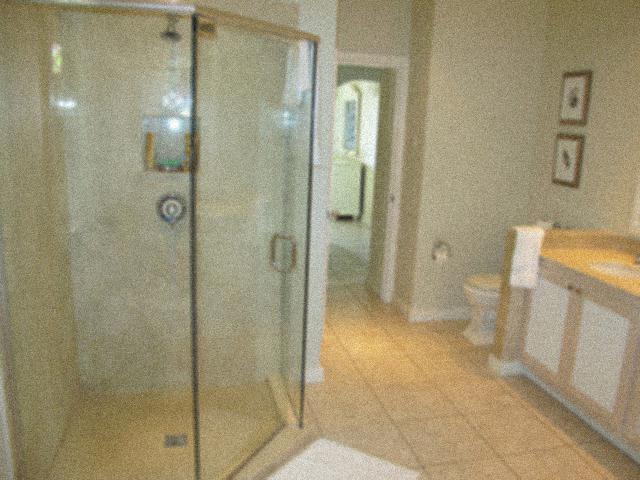Ducha: (0, 15, 318, 479)
Lavamanos: (553, 228, 639, 338)
Sanitario: (463, 207, 569, 350)
